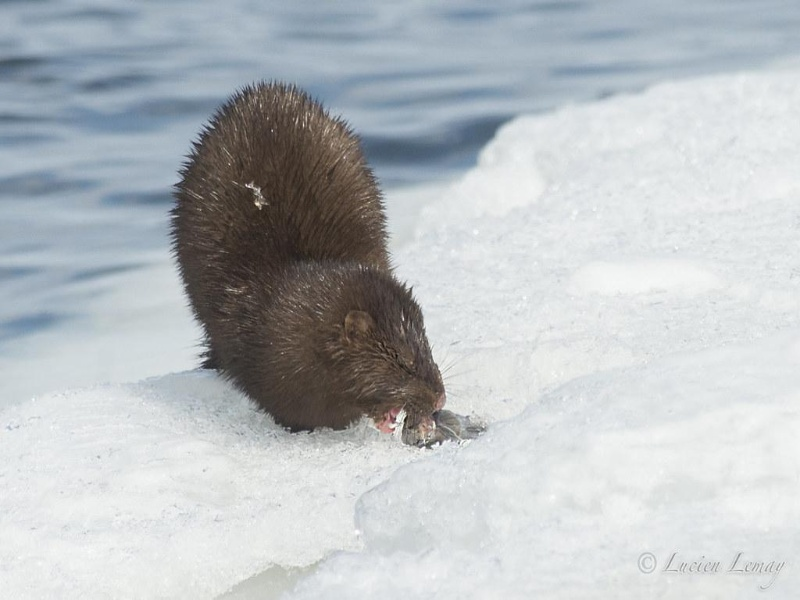minkish: (167, 75, 450, 437)
